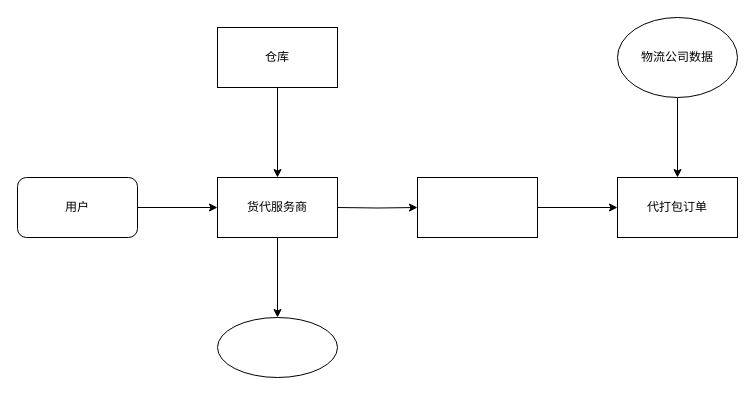
Some shapes in this 755 by 395 pixel diagram are drawn without their labels. Each missing label, with the box of its shape:
代打包包裹: (416, 176, 538, 238)
货代erp: (216, 316, 338, 378)
